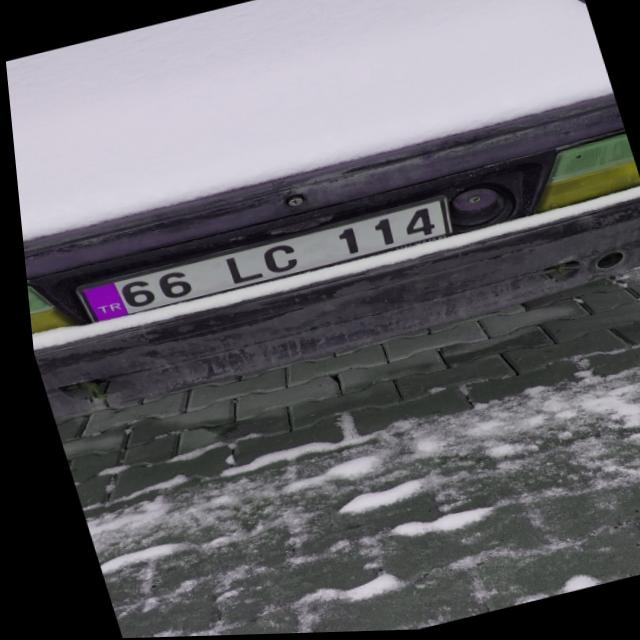license_plate: (64, 202, 453, 324)
